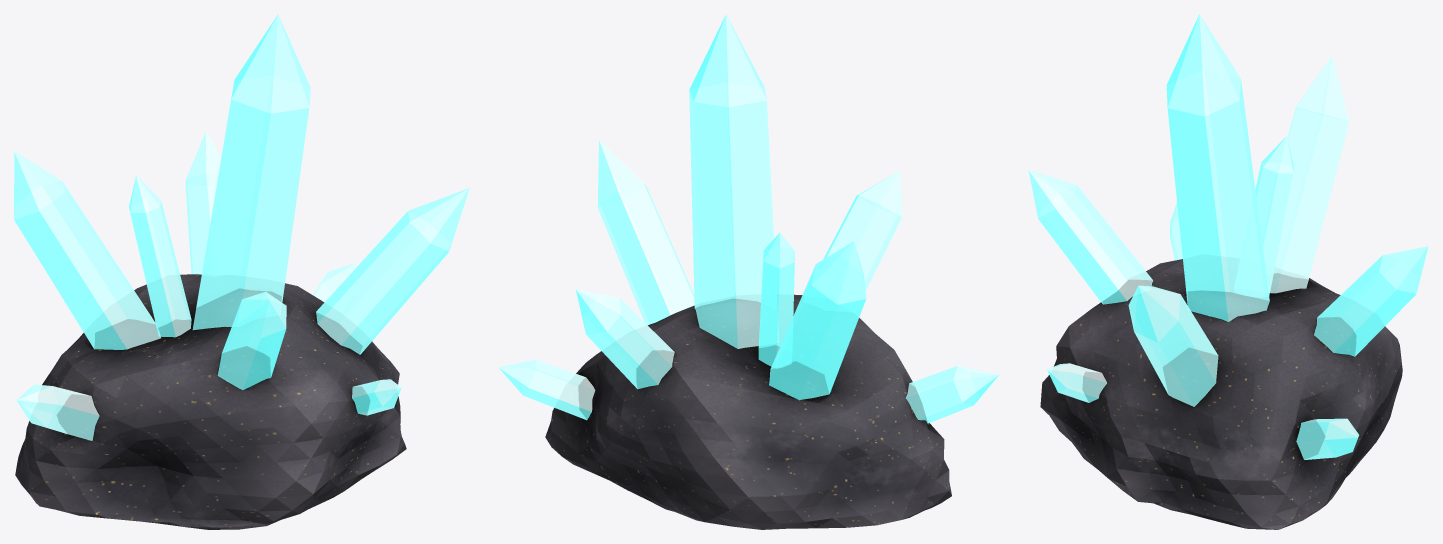
File: item_minerio.glb
3 views of the same model, side by side, from view 1: azimuth 30°, elevation 25°; view 2: azimuth 150°, elevation 25°; view 3: azimuth 270°, elevation 25° (orthographic). The views are drawn at different scales.
Visible parts, largest first — view 1: item_minerio, cr0, cr1, cr2, cr7, cr4, cr3, cr5, cr8, cr6; view 2: item_minerio, cr0, cr1, cr2, cr3, cr4, cr7, cr5, cr6; view 3: item_minerio, cr0, cr1, cr4, cr2, cr3, cr7, cr6, cr8, cr5.
Boxes of the visible parts, x1=… form: item_minerio: x1=15, y1=274, x2=406, y2=529; cr0: x1=192, y1=14, x2=310, y2=330; cr1: x1=14, y1=151, x2=161, y2=349; cr2: x1=316, y1=188, x2=469, y2=354; cr7: x1=129, y1=175, x2=191, y2=337; cr4: x1=217, y1=291, x2=286, y2=389; cr3: x1=185, y1=131, x2=221, y2=274; cr5: x1=16, y1=384, x2=99, y2=440; cr8: x1=352, y1=379, x2=401, y2=415; cr6: x1=313, y1=263, x2=355, y2=302; item_minerio: x1=545, y1=294, x2=951, y2=529; cr0: x1=689, y1=14, x2=773, y2=348; cr1: x1=769, y1=241, x2=866, y2=400; cr2: x1=597, y1=140, x2=694, y2=325; cr3: x1=575, y1=289, x2=674, y2=389; cr4: x1=823, y1=171, x2=901, y2=290; cr7: x1=758, y1=232, x2=794, y2=368; cr5: x1=905, y1=366, x2=999, y2=423; cr6: x1=498, y1=359, x2=595, y2=420; item_minerio: x1=1040, y1=259, x2=1402, y2=529; cr0: x1=1166, y1=14, x2=1269, y2=321; cr1: x1=1269, y1=55, x2=1348, y2=293; cr4: x1=1028, y1=170, x2=1153, y2=304; cr2: x1=1128, y1=285, x2=1218, y2=406; cr3: x1=1314, y1=246, x2=1428, y2=356; cr7: x1=1255, y1=136, x2=1294, y2=295; cr6: x1=1296, y1=418, x2=1359, y2=459; cr8: x1=1047, y1=363, x2=1106, y2=402; cr5: x1=1170, y1=202, x2=1182, y2=260.
Bounding box in the file's own units: 0.2015 × 0.2019 × 0.16.
10 materials, 1 textured.
